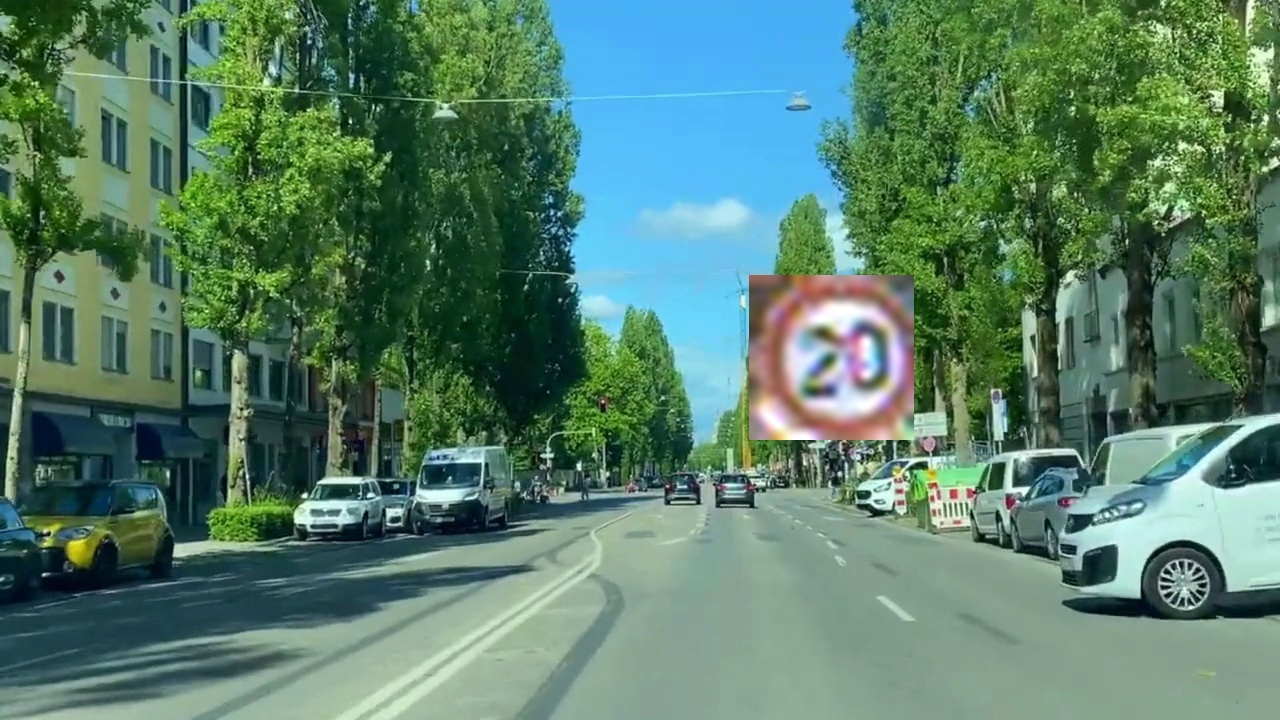Speed 20: (749, 275, 914, 440)
